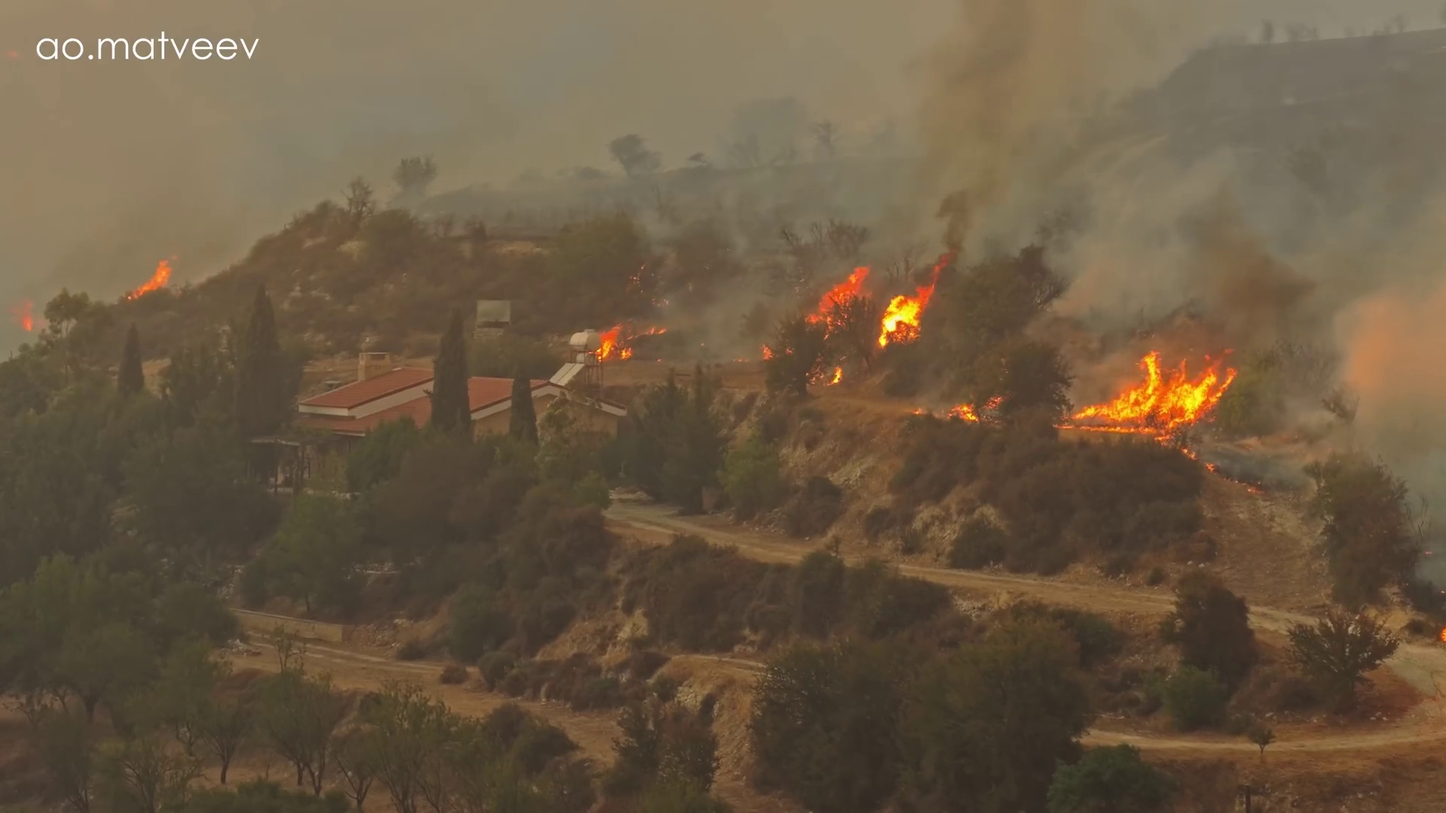forest_fire: (1067, 350, 1236, 435), (877, 254, 951, 346), (815, 266, 868, 318), (596, 324, 666, 359), (126, 259, 171, 300), (11, 300, 35, 331), (948, 403, 979, 422), (826, 368, 842, 385)
